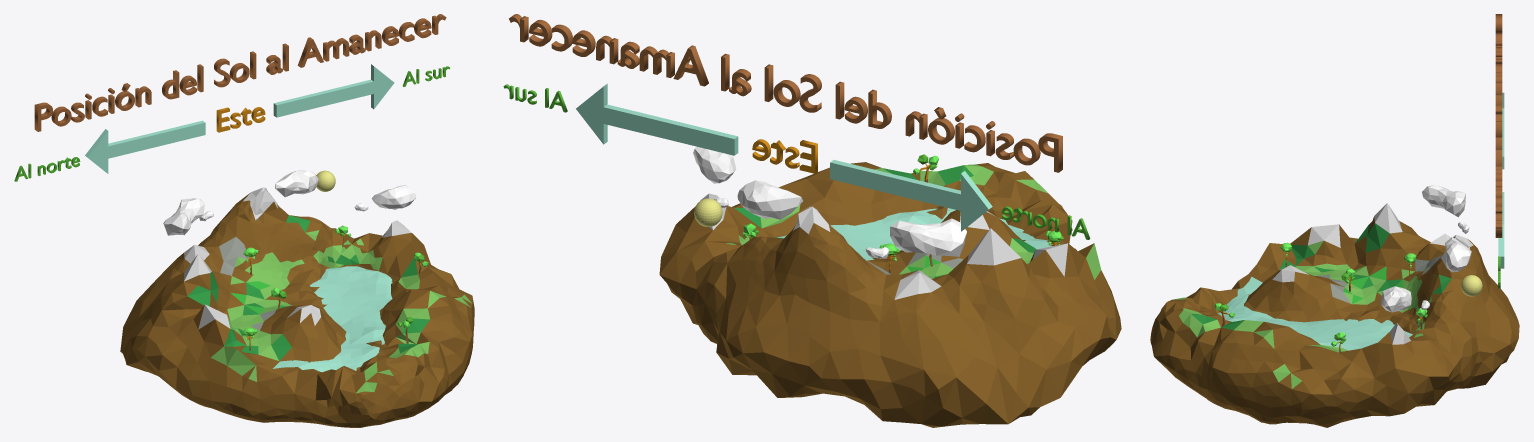
3 views of the same model, side by side, from view 1: azimuth 30°, elevation 25°; view 2: azimuth 150°, elevation 25°; view 3: azimuth 270°, elevation 25° (orthographic). The views are drawn at different scales.
Parts seen in each view (by area): view 1: Esfera geodésica, Texto.004, Plano, Cubo.007, Cubo.006, Esfera geodésica.010, Esfera geodésica.009, Esfera geodésica.012, Texto.001, Texto.002; view 2: Esfera geodésica, Texto.004, Cubo.006, Cubo.007, Plano, Esfera geodésica.010, Esfera geodésica.009, Texto.001, Esfera geodésica.012, Texto.002, Esfera, Texto.003; view 3: Esfera geodésica, Plano, Texto.004, Esfera geodésica.010, Esfera geodésica.009, Esfera geodésica.012, Esfera.
Boxes of the visible parts, x1,y1,x2,y2 form: Esfera geodésica: (120, 187, 474, 427); Texto.004: (34, 14, 446, 131); Plano: (273, 266, 392, 372); Cubo.007: (85, 120, 205, 173); Cubo.006: (273, 64, 394, 117); Esfera geodésica.010: (163, 198, 204, 235); Esfera geodésica.009: (275, 170, 318, 197); Esfera geodésica.012: (371, 185, 416, 209); Texto.001: (216, 107, 265, 132); Texto.002: (14, 157, 80, 181); Esfera geodésica: (659, 162, 1121, 427); Texto.004: (509, 14, 1062, 172); Cubo.006: (576, 83, 738, 155); Cubo.007: (830, 160, 992, 231); Plano: (777, 208, 1052, 260); Esfera geodésica.010: (890, 218, 966, 256); Esfera geodésica.009: (737, 180, 802, 219); Texto.001: (752, 139, 817, 173); Esfera geodésica.012: (693, 146, 736, 183); Texto.002: (1001, 206, 1090, 239); Esfera: (694, 198, 722, 226); Texto.003: (503, 84, 567, 112); Esfera geodésica: (1150, 203, 1519, 427); Plano: (1217, 276, 1412, 350); Texto.004: (1495, 14, 1502, 237); Esfera geodésica.010: (1422, 185, 1465, 217); Esfera geodésica.009: (1441, 237, 1471, 272); Esfera geodésica.012: (1380, 286, 1411, 312); Esfera: (1461, 275, 1482, 296).
Size of the model in its own units: 44.39 by 26.03 by 32.09.
